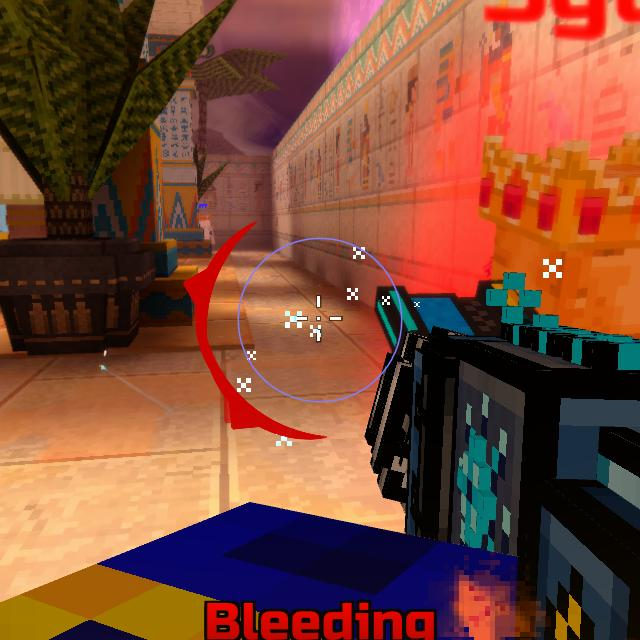Enemy: (478, 135, 640, 336)
